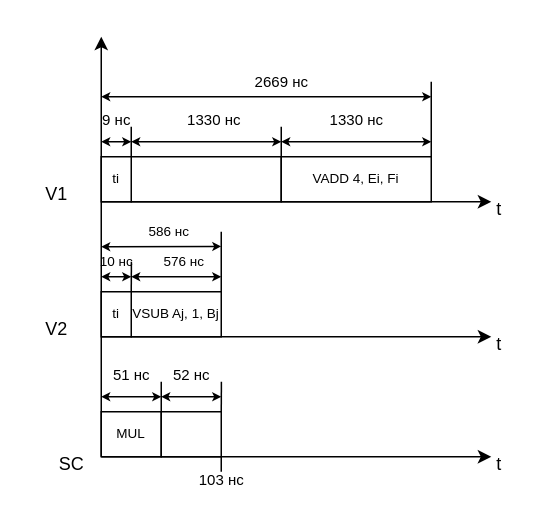
The diagram is 546 pixels wide and 528 high, and some of its shapes have lost their labels. The shapes that lost their labels are listed below. From the top down, each one's box as (x1, y1, x2, y2) in pixels, then its label:
(130, 155, 281, 202): VADD Ci, Di, Ei
(160, 410, 221, 457): DIV
